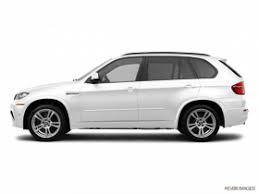bmw: (5, 44, 255, 144)
